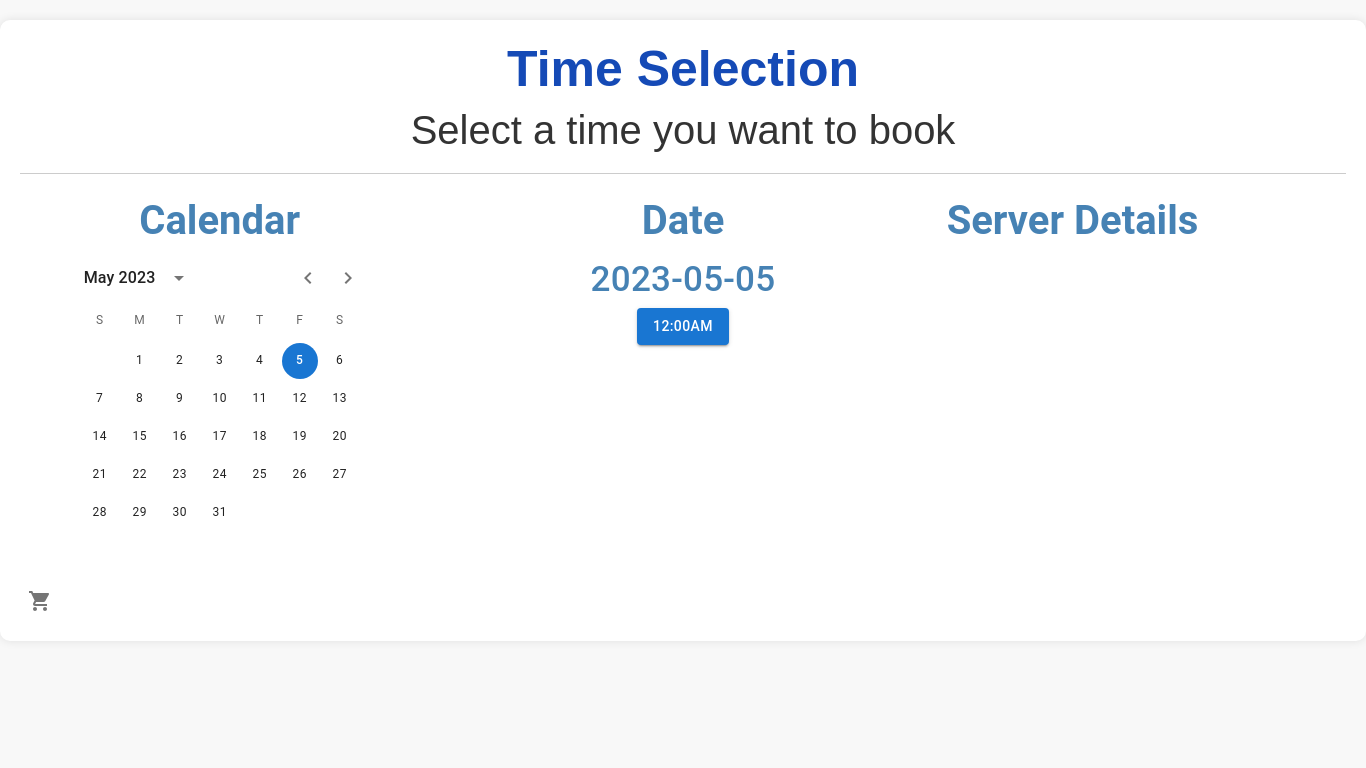
Shopping Cart › check shopping cart opens
This screenshot has width=1366, height=768.
Click the button named "cart": x=40, y=601 [20,581,60,621]
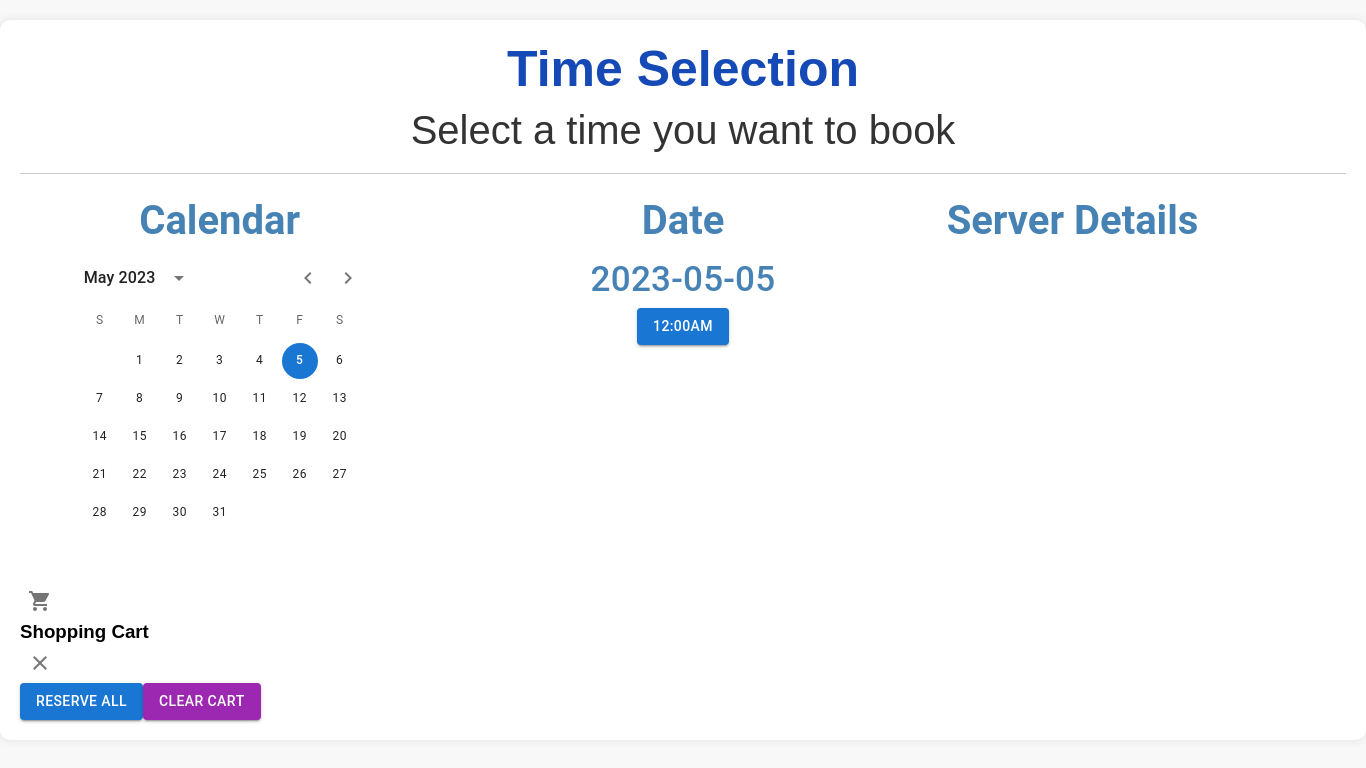
expect the heading "Shopping Cart" is shown: met, box [20,621,149,642]
